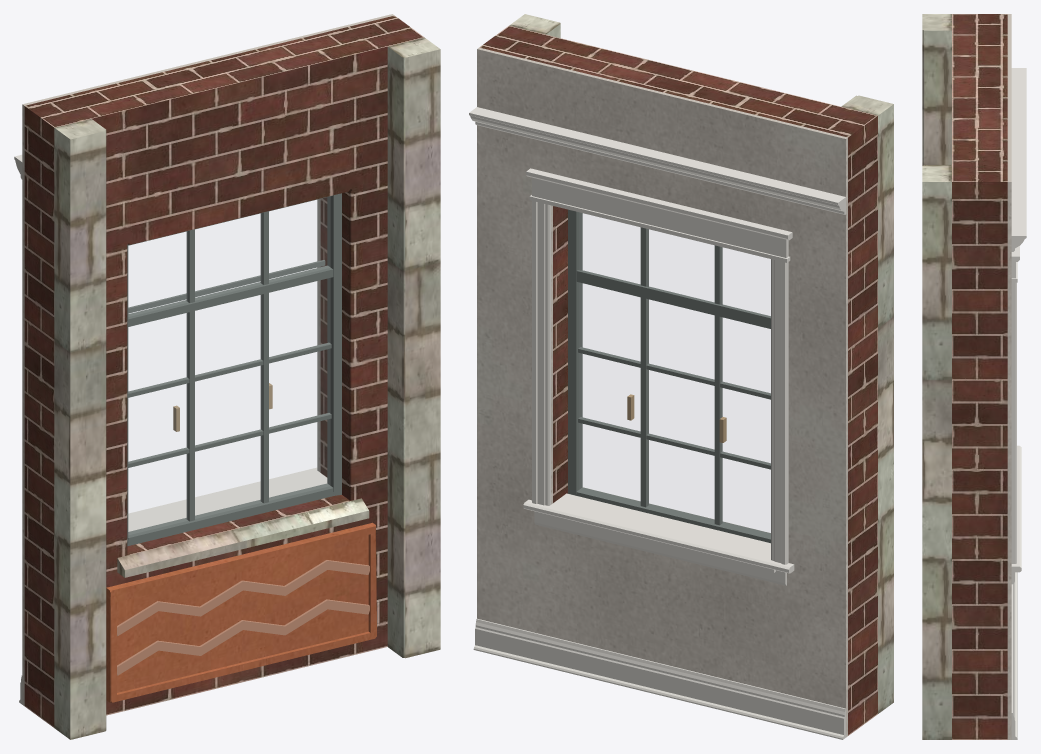
File: f_win.glb
3 renders of one model, left to right at view 1: azimuth 30°, elevation 25°; view 2: azimuth 150°, elevation 25°; view 3: azimuth 270°, elevation 25°, orthographic. The views are drawn at different scales.
Visible parts, largest first — view 1: f_win_brick_d, f_win_stone, folha_glass, f_win_terra, folha_frame, f_win_terra2, molduras, f_win_plaster; view 2: f_win_plaster, molduras, folha_glass, f_win_brick_d, folha_frame, f_win_stone, f_win_frame, f_win_trim; view 3: f_win_brick_d, f_win_stone, molduras, f_win_plaster.
Part boxes in pixels (box(x1,y1,x2,y2)): f_win_brick_d: box(24, 15, 424, 727); f_win_stone: box(54, 37, 440, 739); folha_glass: box(129, 197, 329, 534); f_win_terra: box(106, 522, 376, 702); folha_frame: box(127, 193, 341, 546); f_win_terra2: box(117, 560, 369, 675); molduras: box(14, 154, 327, 704); f_win_plaster: box(22, 14, 394, 705); f_win_plaster: box(477, 47, 847, 737); molduras: box(469, 107, 845, 739); folha_glass: box(579, 213, 770, 535); f_win_brick_d: box(479, 25, 877, 735); folha_frame: box(568, 209, 770, 543); f_win_stone: box(509, 14, 893, 713); f_win_frame: box(576, 270, 770, 322); f_win_trim: box(541, 513, 775, 572); f_win_brick_d: box(952, 14, 1007, 739); f_win_stone: box(922, 14, 951, 739); molduras: box(1011, 68, 1026, 739); f_win_plaster: box(1007, 14, 1011, 739).
Size of the model in its own units: 2 by 3.1 by 0.525.
Materials: 10 (4 with a texture image).
